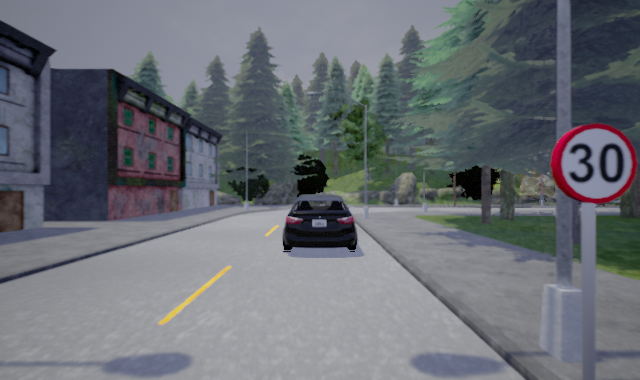vehicle: (281, 193, 357, 253)
